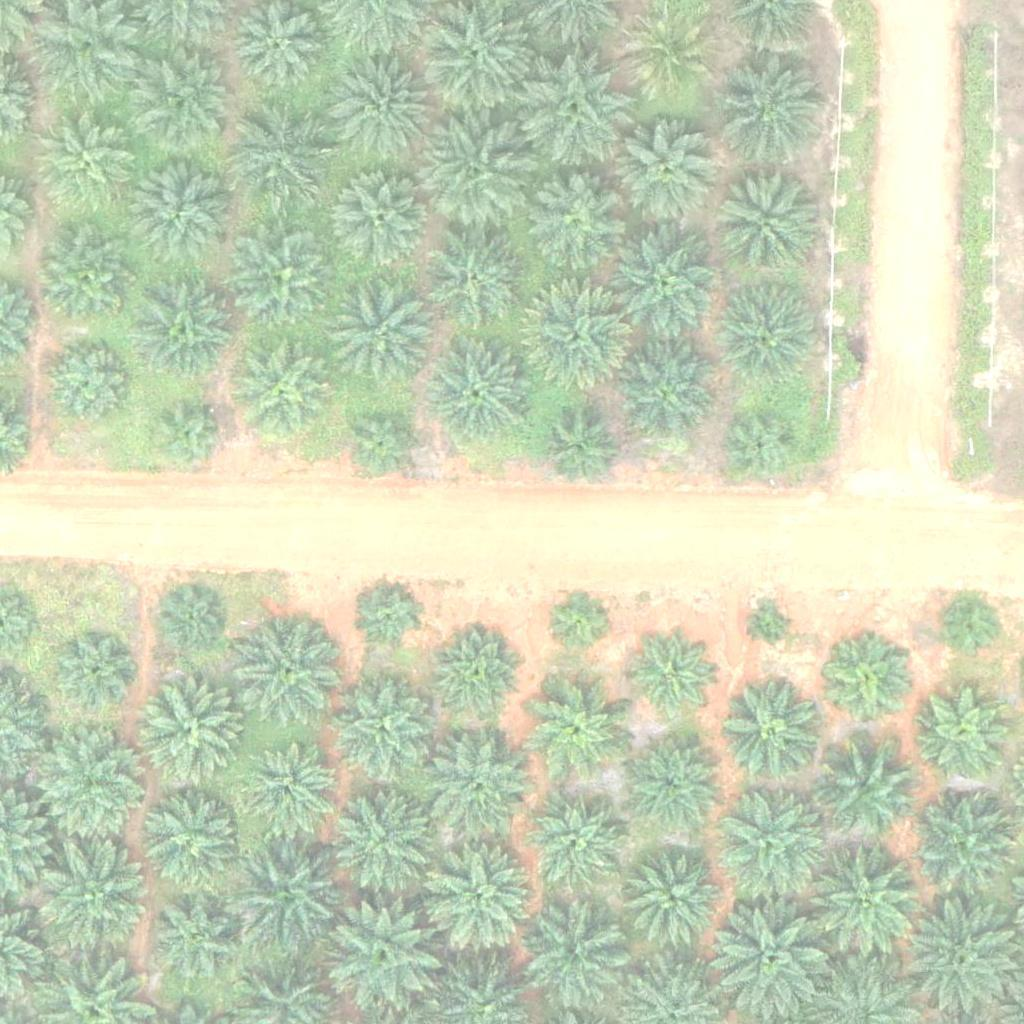Kelapa_Sawit: (32, 835, 157, 961), (223, 826, 348, 952), (323, 895, 448, 1021), (419, 838, 544, 963), (520, 52, 633, 166), (809, 847, 922, 961), (909, 788, 1022, 902), (609, 225, 722, 338), (35, 728, 148, 841), (522, 286, 634, 399), (717, 51, 829, 164), (417, 118, 529, 231), (715, 782, 827, 895), (616, 343, 716, 444), (425, 234, 525, 335), (429, 341, 529, 442), (331, 57, 431, 158), (332, 170, 432, 271), (332, 279, 432, 380), (231, 102, 331, 203), (233, 228, 333, 329), (233, 340, 333, 441), (139, 52, 239, 153), (133, 160, 233, 261), (134, 282, 234, 383), (40, 109, 140, 210), (39, 226, 139, 327), (140, 678, 240, 779), (139, 793, 239, 894), (242, 619, 342, 720), (236, 740, 336, 841), (333, 676, 433, 777), (333, 788, 433, 889), (428, 733, 528, 834), (530, 680, 630, 781), (525, 795, 625, 896), (526, 909, 626, 1010), (622, 732, 722, 833), (624, 848, 724, 949), (714, 171, 814, 271), (719, 285, 819, 385), (620, 124, 720, 224), (526, 174, 626, 274), (146, 889, 246, 989), (722, 677, 822, 777), (817, 735, 917, 835), (625, 14, 713, 102), (45, 340, 133, 428), (627, 632, 715, 720), (920, 687, 1008, 775), (233, 4, 320, 92), (439, 629, 526, 717), (826, 641, 913, 729), (725, 407, 800, 483), (151, 399, 226, 475), (59, 634, 134, 709), (543, 413, 618, 488), (347, 407, 422, 482), (160, 588, 223, 651), (360, 586, 422, 649), (546, 587, 608, 650), (941, 599, 1003, 662), (753, 607, 790, 645)
